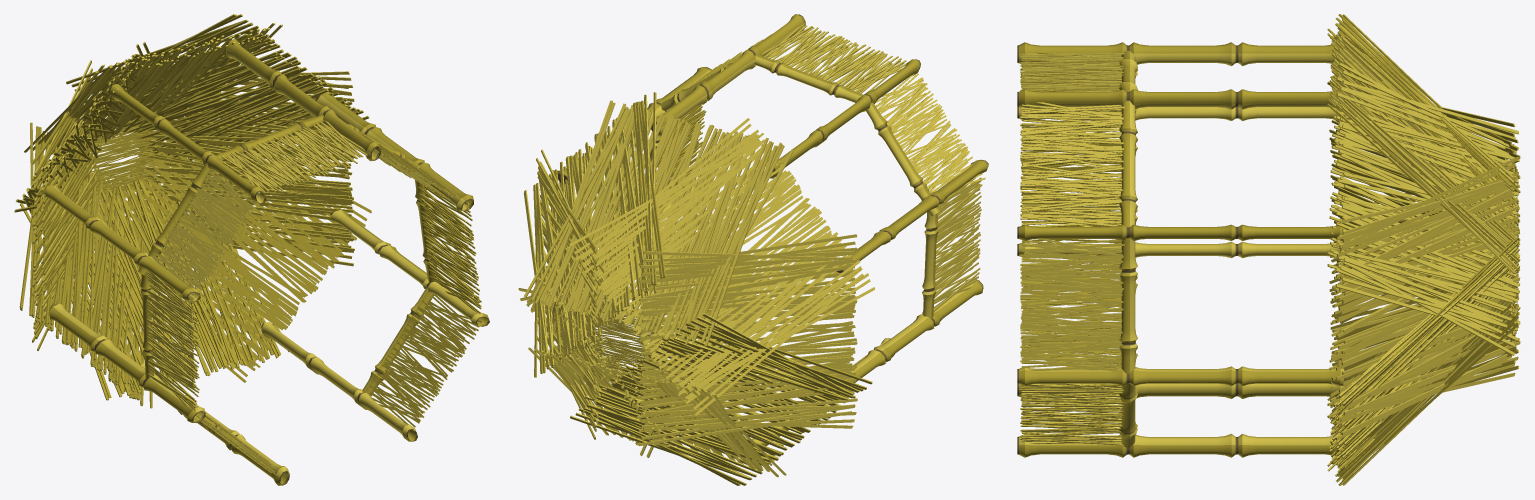
Rendered from Obs_TikiHut.fbx.
3 views of the same model, side by side, from view 1: azimuth 30°, elevation 25°; view 2: azimuth 150°, elevation 25°; view 3: azimuth 270°, elevation 25° (orthographic). The views are drawn at different scales.
Visible parts, largest first — view 1: Obs_TikiHut; view 2: Obs_TikiHut; view 3: Obs_TikiHut.
Part boxes in pixels (left/top/right/bottom): Obs_TikiHut: left=14, top=14, right=489, bottom=485; Obs_TikiHut: left=518, top=14, right=988, bottom=485; Obs_TikiHut: left=1017, top=14, right=1520, bottom=485.
Bounding box in the file's own units: 1.63 × 1.63 × 1.77.
